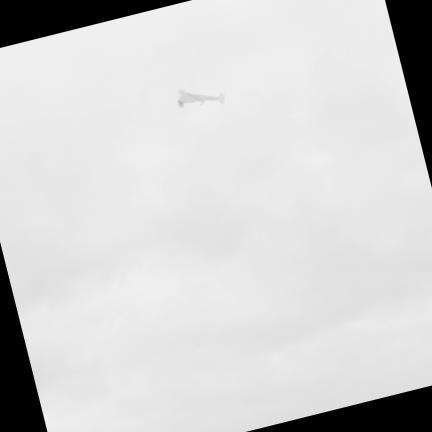Shahed: (178, 89, 224, 107)
